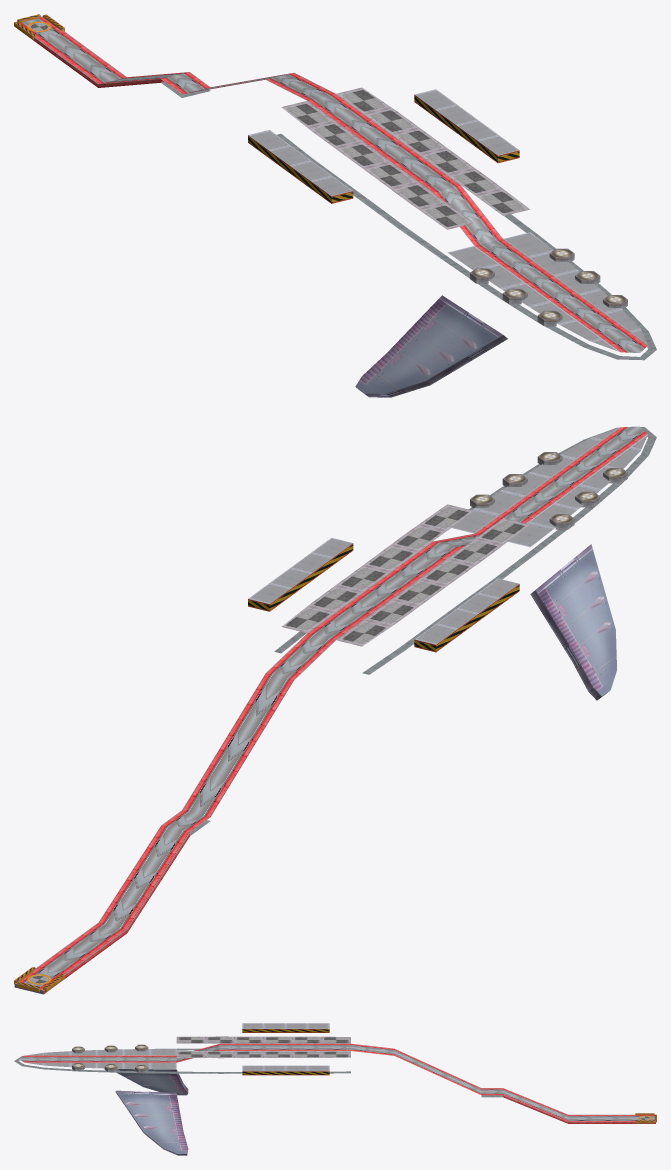
File: S13_ONS_08.OBJ
3 views of the same model, one above another, from view 1: azimuth 30°, elevation 25°; view 2: azimuth 150°, elevation 25°; view 3: azimuth 270°, elevation 25° (orthographic). The views are drawn at different scales.
Visible parts, largest first — view 1: s13_ons_08_5, s13_ons_08_4, s13_ons_08_7, s13_ons_08_9, s13_ons_08_8, s13_ons_08_2, s13_ons_08_6, s13_ons_08_1, s13_ons_08_11, s13_ons_08_10; view 2: s13_ons_08_5, s13_ons_08_4, s13_ons_08_7, s13_ons_08_9, s13_ons_08_8, s13_ons_08_2, s13_ons_08_6, s13_ons_08_1, s13_ons_08_11, s13_ons_08_10; view 3: s13_ons_08_7, s13_ons_08_5, s13_ons_08_4, s13_ons_08_9, s13_ons_08_8, s13_ons_08_2, s13_ons_08_1, s13_ons_08_6, s13_ons_08_11, s13_ons_08_10.
Boxes of the visible parts, x1,y1,x2,y2 form: s13_ons_08_5: (18,16,502,245); s13_ons_08_4: (31,23,529,229); s13_ons_08_7: (355,295,507,397); s13_ons_08_9: (447,232,647,351); s13_ons_08_8: (475,239,647,352); s13_ons_08_2: (248,89,519,196); s13_ons_08_6: (161,82,656,360); s13_ons_08_1: (14,14,519,203); s13_ons_08_11: (470,248,627,319); s13_ons_08_10: (470,253,627,326); s13_ons_08_5: (15,533,479,993); s13_ons_08_4: (31,504,529,983); s13_ons_08_7: (530,544,616,700); s13_ons_08_9: (451,427,647,547); s13_ons_08_8: (475,426,647,534); s13_ons_08_2: (248,538,519,644); s13_ons_08_6: (190,427,656,835); s13_ons_08_1: (14,543,519,988); s13_ons_08_11: (470,452,627,523); s13_ons_08_10: (470,457,627,529); s13_ons_08_7: (115,1069,188,1155); s13_ons_08_5: (176,1043,655,1123); s13_ons_08_4: (176,1036,649,1120); s13_ons_08_9: (25,1048,176,1069); s13_ons_08_8: (19,1055,176,1062); s13_ons_08_2: (242,1023,329,1071); s13_ons_08_1: (242,1029,656,1121); s13_ons_08_6: (14,1048,503,1097); s13_ons_08_11: (72,1044,147,1069); s13_ons_08_10: (72,1047,148,1072).
Bounding box in the file's own units: 682 × 396 × 2951.
Materials: 9 (9 with a texture image).
